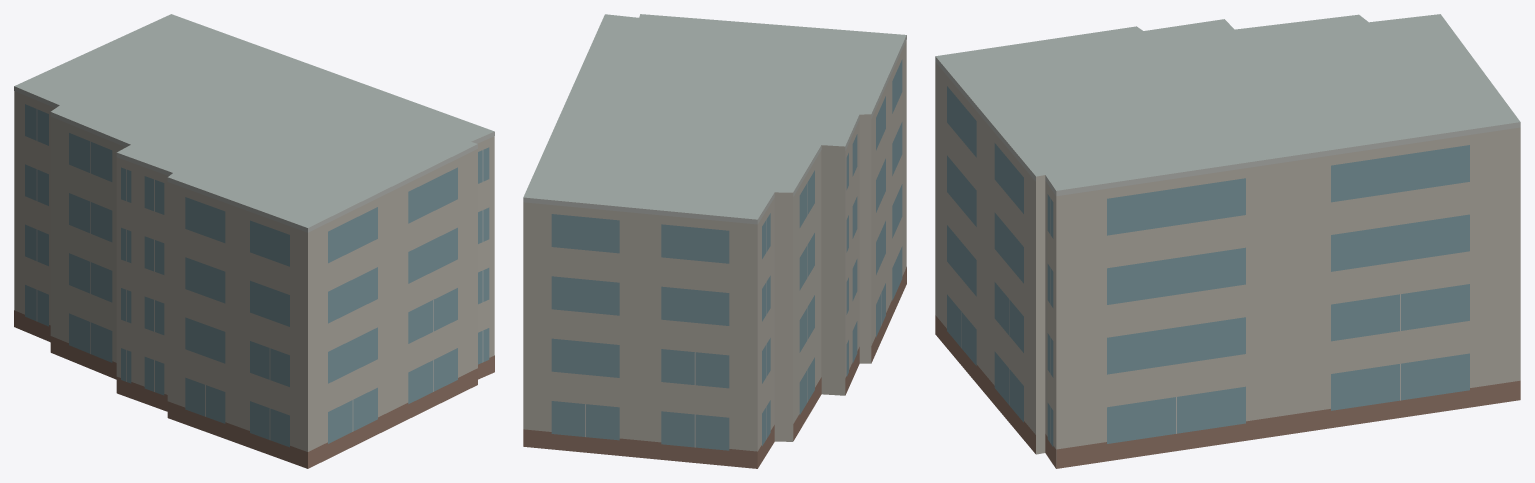
Rendered from survey-upis-32919644.glb.
The picture shows the model from 3 angles, left to right: view 1: azimuth 30°, elevation 25°; view 2: azimuth 150°, elevation 25°; view 3: azimuth 270°, elevation 25°; orthographic projection. The views are drawn at different scales.
Visible parts, largest first — view 1: survey-upis-32919644.tmp; view 2: survey-upis-32919644.tmp; view 3: survey-upis-32919644.tmp.
Boxes of the visible parts, x1,y1,x2,y2 form: survey-upis-32919644.tmp: (14, 14, 494, 468); survey-upis-32919644.tmp: (523, 14, 906, 468); survey-upis-32919644.tmp: (935, 14, 1520, 468).
Bounding box in the file's own units: 17.15 × 12.56 × 23.98.
